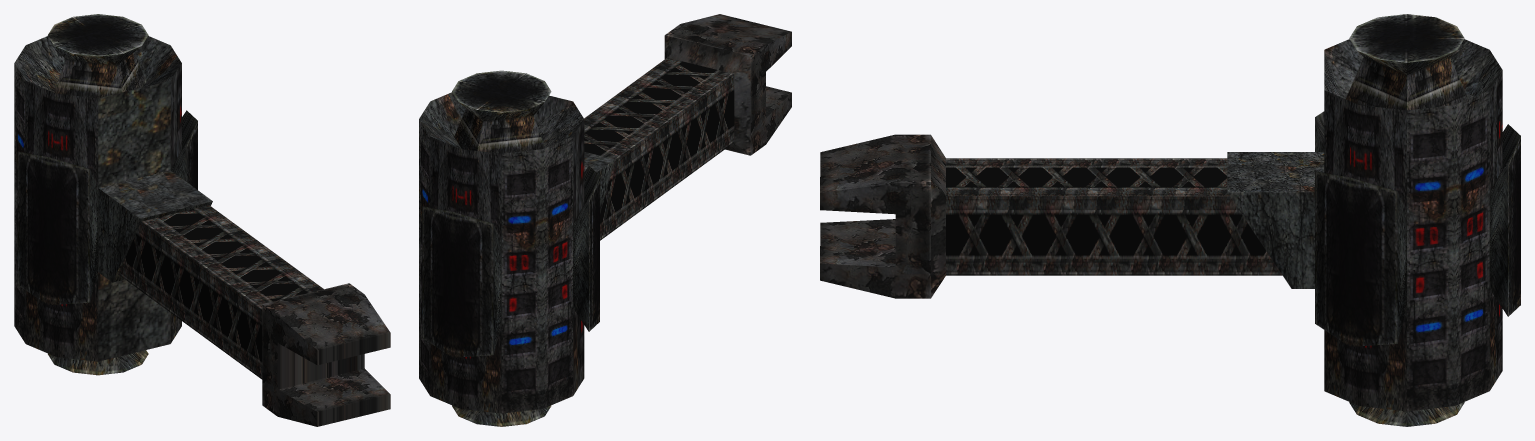
The picture shows the model from 3 angles, left to right: view 1: azimuth 30°, elevation 25°; view 2: azimuth 150°, elevation 25°; view 3: azimuth 270°, elevation 25°; orthographic projection. The views are drawn at different scales.
Parts seen in each view (by area): view 1: dvig, krepl; view 2: dvig, krepl; view 3: dvig, krepl.
Boxes of the visible parts, left/top/right/bottom form: dvig: left=14, top=14, right=212, bottom=375; krepl: left=118, top=205, right=390, bottom=426; dvig: left=419, top=70, right=614, bottom=426; krepl: left=584, top=14, right=791, bottom=240; dvig: left=1227, top=14, right=1520, bottom=426; krepl: left=820, top=134, right=1282, bottom=298.
Size of the model in its own units: 42.63 by 76.81 by 134.
